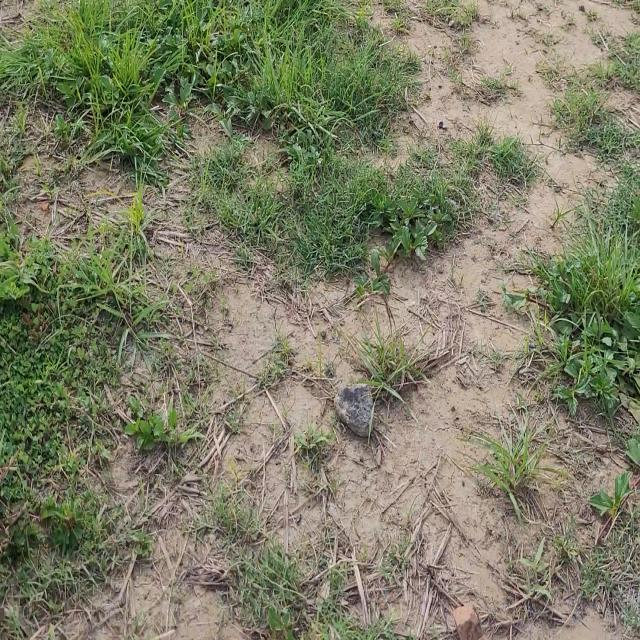grass: (0, 0, 419, 639), (503, 194, 640, 421)
red-sand: (0, 0, 615, 639)
